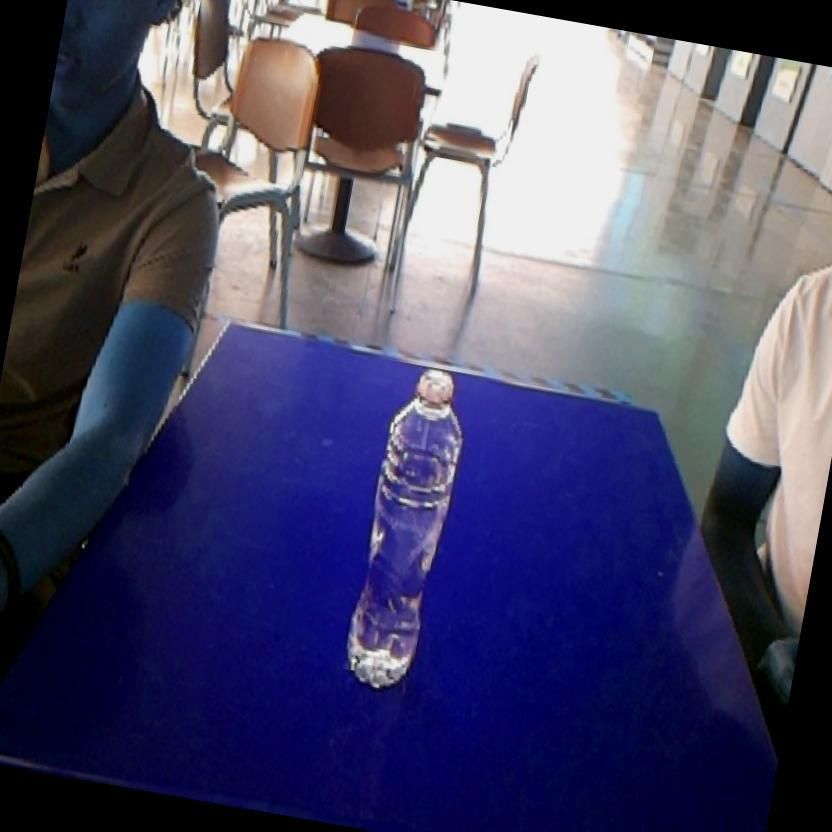no_cap: (332, 353, 481, 702)
